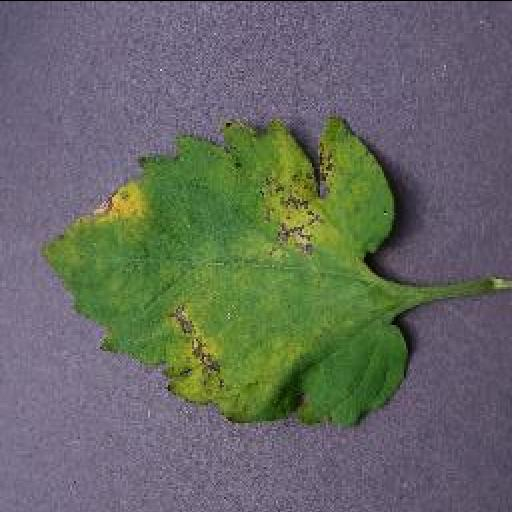disease_tomato: (38, 112, 418, 436)
